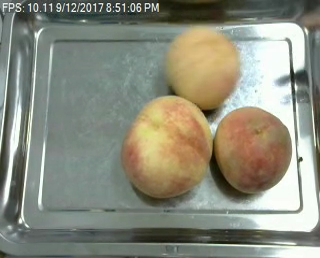Peach: (121, 94, 211, 198), (213, 106, 292, 193), (165, 24, 240, 107)
